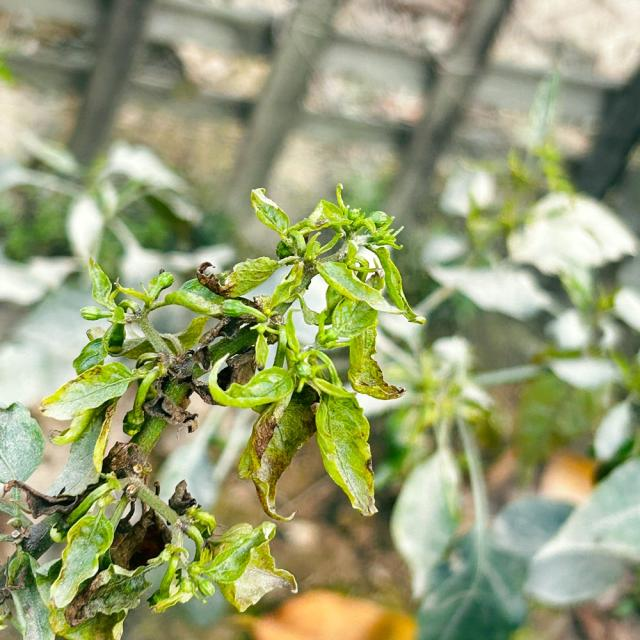Chilli_Leaf_Curl: (1, 182, 426, 637), (191, 182, 425, 521)
